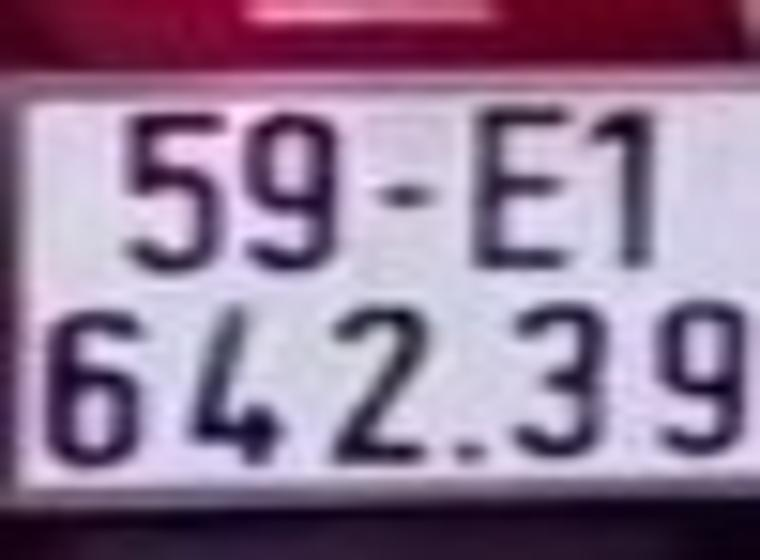-: (372, 183, 433, 210)
.: (439, 436, 490, 466)
1: (595, 103, 659, 272)
2: (331, 305, 425, 464)
3: (516, 301, 608, 461)
4: (184, 303, 279, 468)
5: (124, 111, 223, 279)
6: (44, 310, 143, 466)
9: (239, 111, 339, 275), (650, 295, 745, 458)
E: (473, 106, 568, 269)
